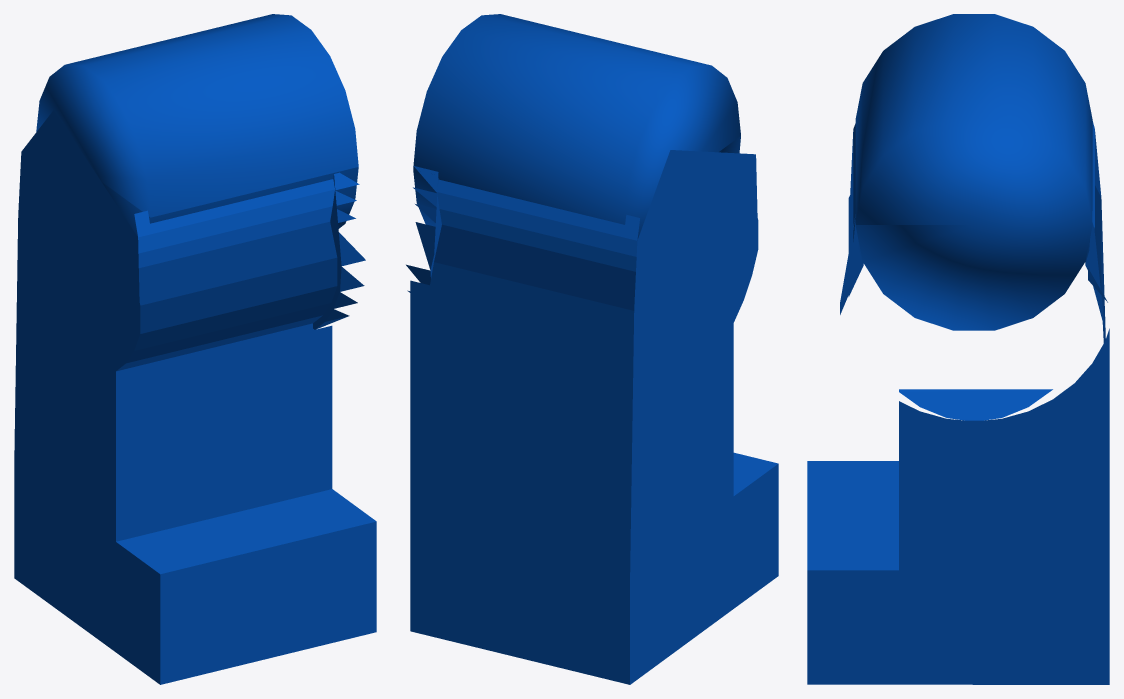
Rendered from legL.glb.
3 renders of one model, left to right at view 1: azimuth 30°, elevation 25°; view 2: azimuth 150°, elevation 25°; view 3: azimuth 270°, elevation 25°, orthographic. The views are drawn at different scales.
Parts seen in each view (by area): view 1: baker_legL; view 2: baker_legL; view 3: baker_legL.
Boxes of the visible parts, <box> form: baker_legL: <box>14,14,376,684</box>; baker_legL: <box>406,14,778,684</box>; baker_legL: <box>807,14,1109,684</box>.
Bounding box in the file's own units: 0.3056 × 0.7237 × 0.3488.
